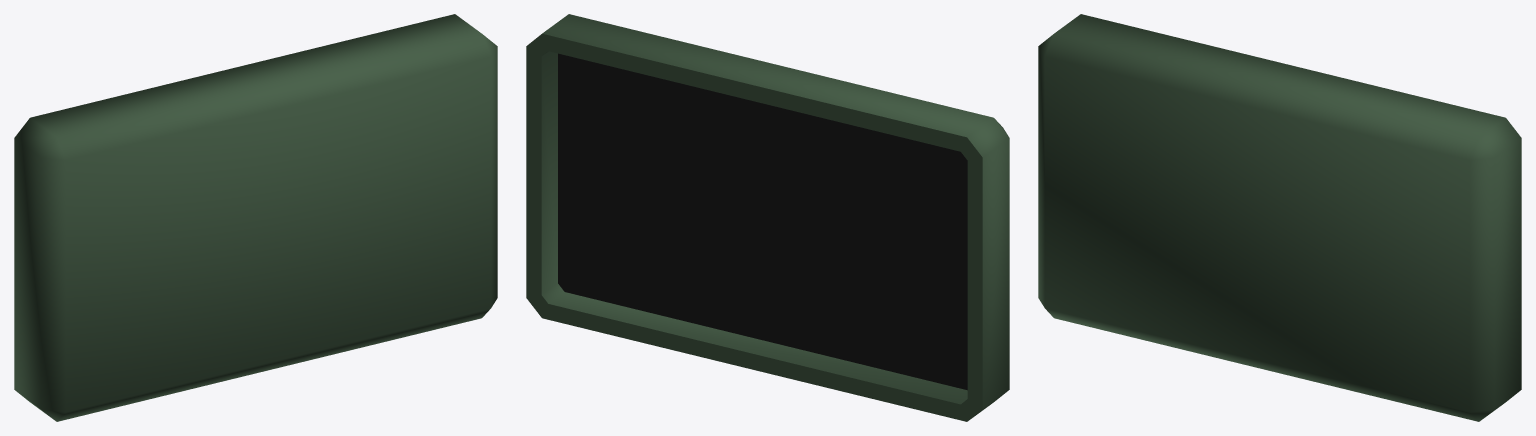
Rendered from mesh_SSOfficeBriefcaseLid.fbx.
3 renders of one model, left to right at view 1: azimuth 30°, elevation 25°; view 2: azimuth 150°, elevation 25°; view 3: azimuth 330°, elevation 25°, orthographic.
Visible parts, largest first — view 1: Lid; view 2: Lid; view 3: Lid.
Boxes of the visible parts, x1,y1,x2,y2 form: Lid: (14, 14, 497, 421); Lid: (526, 14, 1009, 421); Lid: (1038, 14, 1521, 421).
Bounding box in the file's own units: 111 × 65.95 × 15.1.
